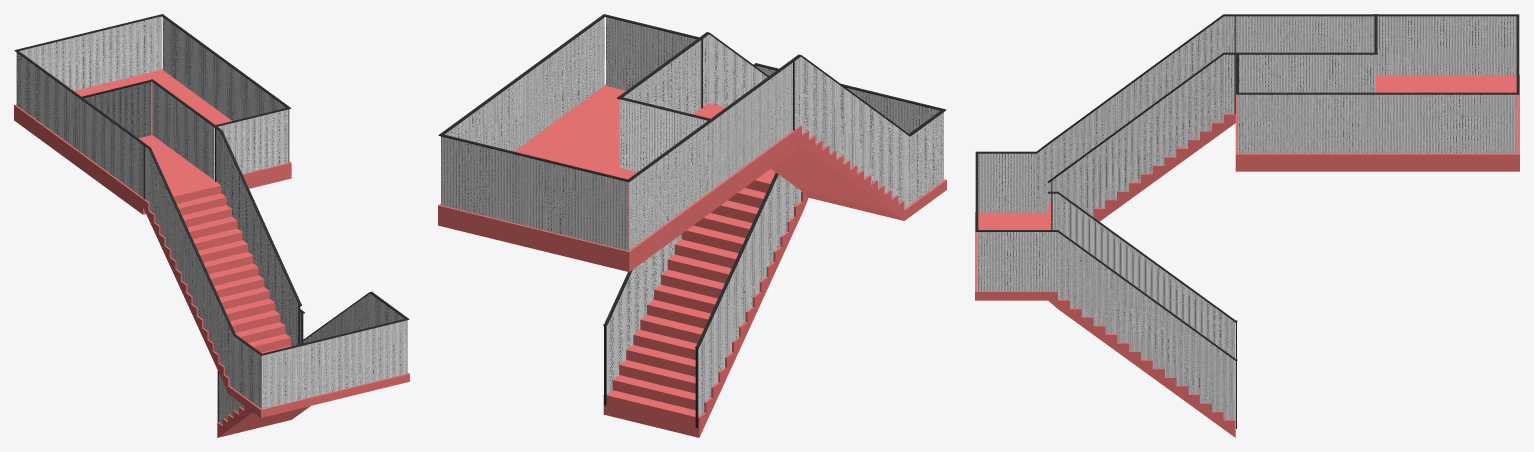
The model's file is Ext_stairs_01.fbx.
3 renders of one model, left to right at view 1: azimuth 30°, elevation 25°; view 2: azimuth 150°, elevation 25°; view 3: azimuth 270°, elevation 25°, orthographic. The views are drawn at different scales.
Parts seen in each view (by area): view 1: handrail_stairs, Ext_stairs_01, handrail_floor_B_long, Ext_stairs_handrail_end_floor, Ext_stairs_long_floor, handrail_floor_A_long, handrail_floor_LA_demi, Ext_stairs_handrail_close_last, handrail_floor_B_demi, handrail_floor_LB_demi, Ext_stairs_demi_floor, Ext_stairs_little_floor; view 2: handrail_stairs, Ext_stairs_01, Ext_stairs_handrail_end_floor, Ext_stairs_long_floor, handrail_floor_B_long, handrail_floor_A_demi, Ext_stairs_demi_floor, handrail_floor_B_demi, handrail_floor_A_long, Ext_stairs_handrail_close_last, handrail_floor_LB_demi, handrail_floor_LA_demi (+2 smaller); view 3: handrail_stairs, handrail_floor_A_long, handrail_floor_B_long, Ext_stairs_long_floor, Ext_stairs_01, handrail_floor_LA_demi, handrail_floor_A_demi, handrail_floor_B_demi, Ext_stairs_demi_floor, handrail_floor_A_quarter.
Part boxes in pixels (x1=…): handrail_stairs: x1=143, y1=126, x2=409, y2=424; Ext_stairs_01: x1=143, y1=181, x2=409, y2=437; handrail_floor_B_long: x1=16, y1=50, x2=145, y2=197; Ext_stairs_handrail_end_floor: x1=14, y1=14, x2=163, y2=104; Ext_stairs_long_floor: x1=14, y1=68, x2=291, y2=214; handrail_floor_A_long: x1=161, y1=15, x2=288, y2=161; handrail_floor_LA_demi: x1=150, y1=79, x2=215, y2=179; Ext_stairs_handrail_close_last: x1=213, y1=107, x2=288, y2=180; handrail_floor_B_demi: x1=79, y1=97, x2=143, y2=195; handrail_floor_LB_demi: x1=78, y1=80, x2=151, y2=152; Ext_stairs_demi_floor: x1=80, y1=153, x2=291, y2=198; Ext_stairs_little_floor: x1=78, y1=134, x2=186, y2=214; handrail_stairs: x1=603, y1=32, x2=946, y2=428; Ext_stairs_01: x1=603, y1=103, x2=946, y2=437; Ext_stairs_handrail_end_floor: x1=438, y1=133, x2=630, y2=250; Ext_stairs_long_floor: x1=438, y1=86, x2=794, y2=272; handrail_floor_B_long: x1=628, y1=59, x2=794, y2=249; handrail_floor_A_demi: x1=522, y1=14, x2=606, y2=144; Ext_stairs_demi_floor: x1=524, y1=84, x2=791, y2=188; handrail_floor_B_demi: x1=710, y1=59, x2=792, y2=190; handrail_floor_A_long: x1=441, y1=15, x2=604, y2=151; Ext_stairs_handrail_close_last: x1=605, y1=15, x2=702, y2=108; handrail_floor_LB_demi: x1=620, y1=97, x2=713, y2=190; handrail_floor_LA_demi: x1=617, y1=37, x2=701, y2=167; handrail_stairs: x1=975, y1=14, x2=1237, y2=428; handrail_floor_A_long: x1=1239, y1=92, x2=1516, y2=153; handrail_floor_B_long: x1=1235, y1=14, x2=1516, y2=75; Ext_stairs_long_floor: x1=1235, y1=74, x2=1519, y2=171; Ext_stairs_01: x1=975, y1=113, x2=1235, y2=437; handrail_floor_LA_demi: x1=1239, y1=52, x2=1377, y2=92; handrail_floor_A_demi: x1=1236, y1=92, x2=1377, y2=153; handrail_floor_B_demi: x1=1235, y1=14, x2=1377, y2=70; Ext_stairs_demi_floor: x1=1235, y1=77, x2=1377, y2=171; handrail_floor_A_quarter: x1=1239, y1=92, x2=1306, y2=153.
Size of the model in its own units: 200 by 400 by 575.
23 materials, 11 textured.
